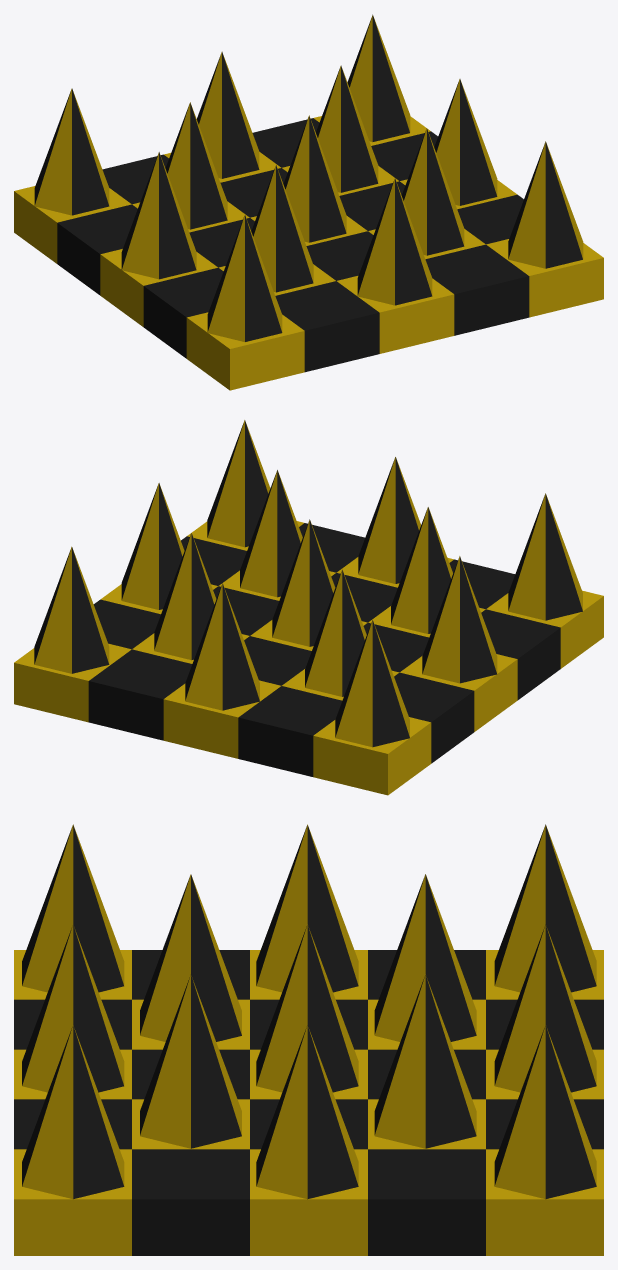
Rendered from Spikes.fbx.
3 views of the same model, one above another, from view 1: azimuth 30°, elevation 25°; view 2: azimuth 150°, elevation 25°; view 3: azimuth 270°, elevation 25° (orthographic). The views are drawn at different scales.
Parts seen in each view (by area): view 1: pCube2; view 2: pCube2; view 3: pCube2.
Boxes of the visible parts, x1,y1,x2,y2 form: pCube2: [14, 14, 603, 390]; pCube2: [14, 420, 603, 795]; pCube2: [14, 824, 603, 1255].
Size of the model in its own units: 10.04 by 3.87 by 10.
